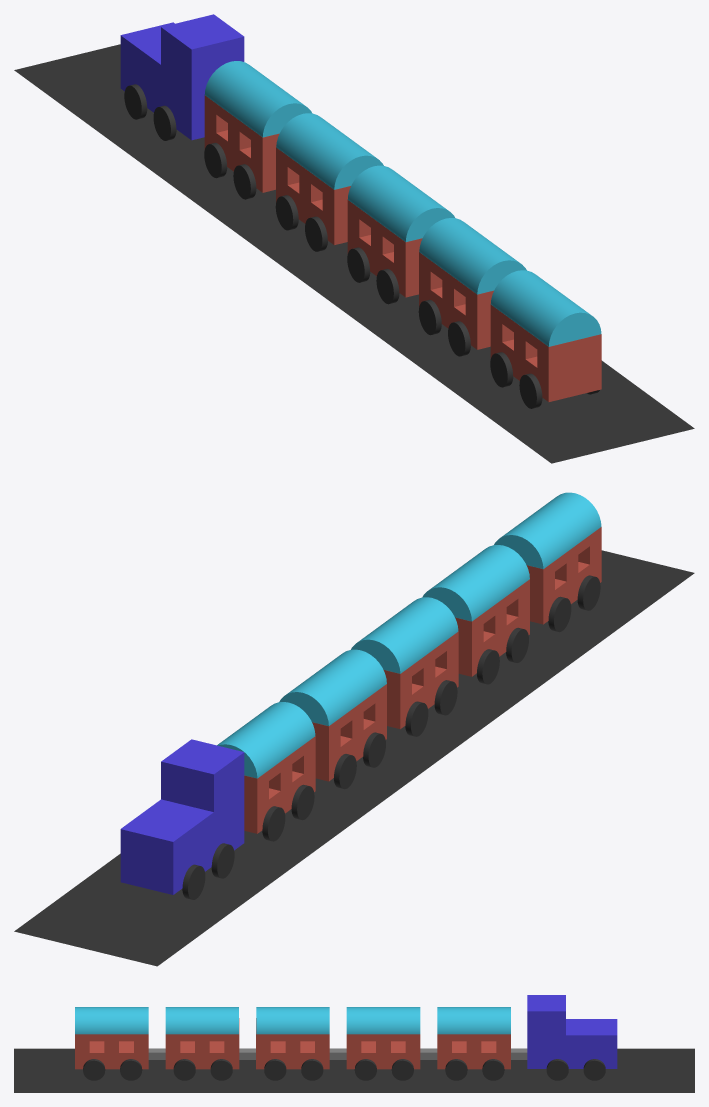
Rendered from train.glb.
3 views of the same model, one above another, from view 1: azimuth 30°, elevation 25°; view 2: azimuth 150°, elevation 25°; view 3: azimuth 270°, elevation 25° (orthographic). The views are drawn at different scales.
Visible parts, largest first — view 1: Cube, Plane, Cube.001, Cube.002; view 2: Cube, Plane, Cube.001, Cube.002; view 3: Cube, Plane, Cube.001, Cube.002.
Boxes of the visible parts, x1=… form: Cube: x1=204, y1=61, x2=601, y2=408; Plane: x1=14, y1=44, x2=694, y2=463; Cube.001: x1=120, y1=14, x2=244, y2=140; Cube.002: x1=124, y1=84, x2=176, y2=140; Cube: x1=217, y1=492, x2=601, y2=841; Plane: x1=14, y1=550, x2=694, y2=966; Cube.001: x1=120, y1=739, x2=244, y2=894; Cube.002: x1=182, y1=843, x2=234, y2=899; Cube: x1=75, y1=1007, x2=527, y2=1080; Plane: x1=14, y1=1048, x2=694, y2=1092; Cube.001: x1=527, y1=995, x2=617, y2=1068; Cube.002: x1=546, y1=1059, x2=605, y2=1080.
Size of the model in its own units: 5.43 by 3.86 by 35.27.
